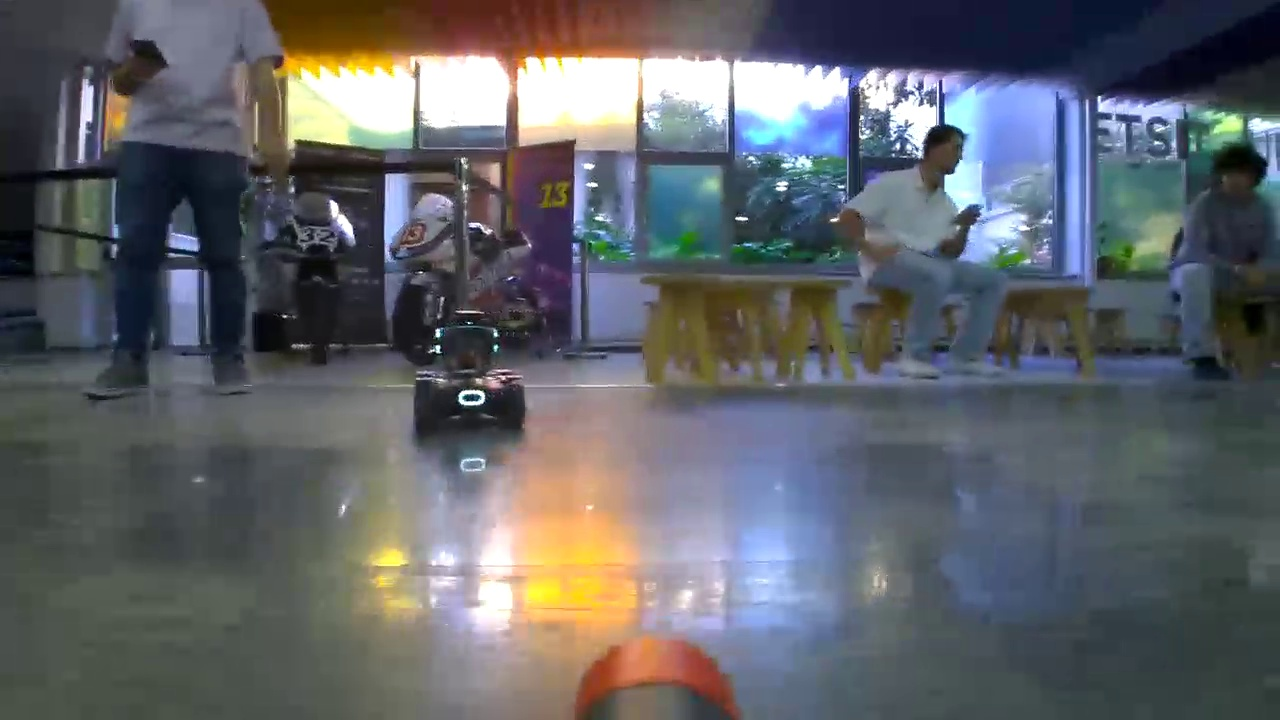robot: (412, 300, 528, 432)
